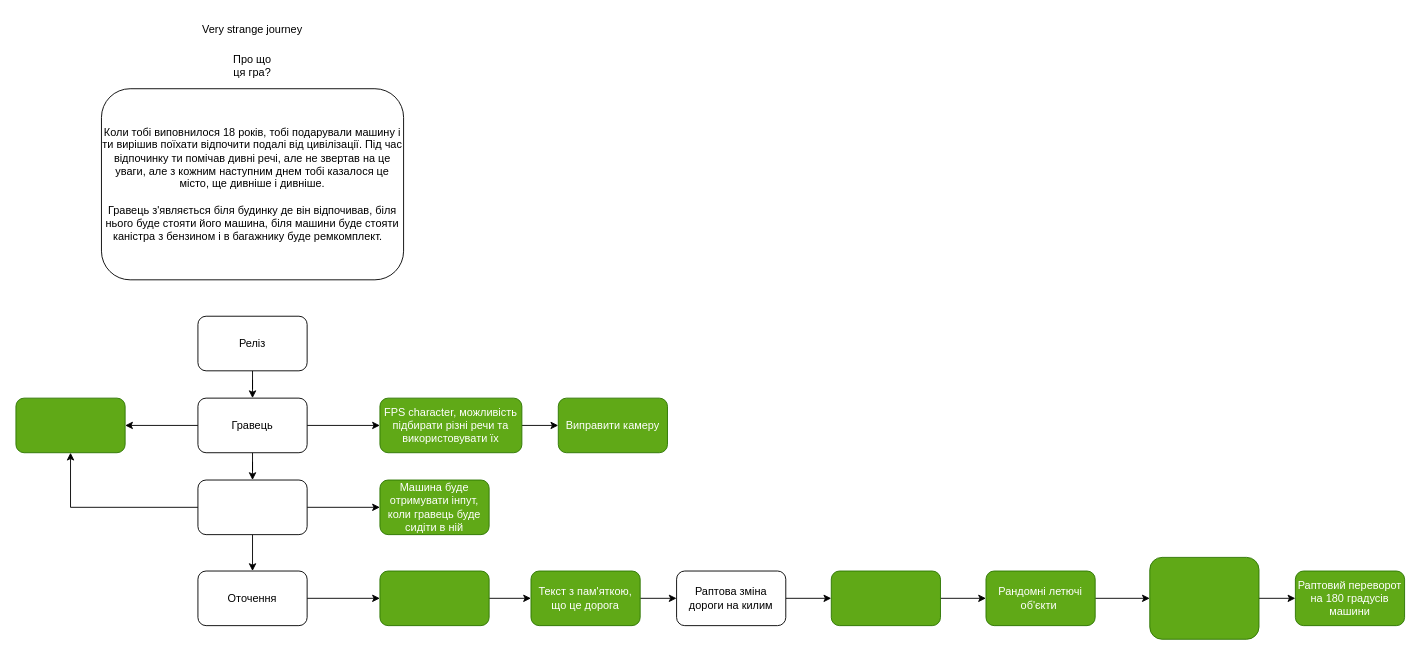
The diagram is 1421 pixels wide and 655 high, and some of its shapes have lost their labels. The box of each missing label's shape, as (x1, y1, x2, y2) in pixels:
Дорожній знак стоп, який буде поступово спускатися вниз: (830, 570, 940, 626)
Кнопка нажміть D та S, щоб злетіти. А потім текст з насмішкою над гравцем: (1149, 556, 1259, 639)
Машина: (197, 479, 307, 535)
Можливість сісти, та управляти машиною: (15, 397, 125, 453)
Створення мапи, та дороги: (379, 570, 489, 626)
